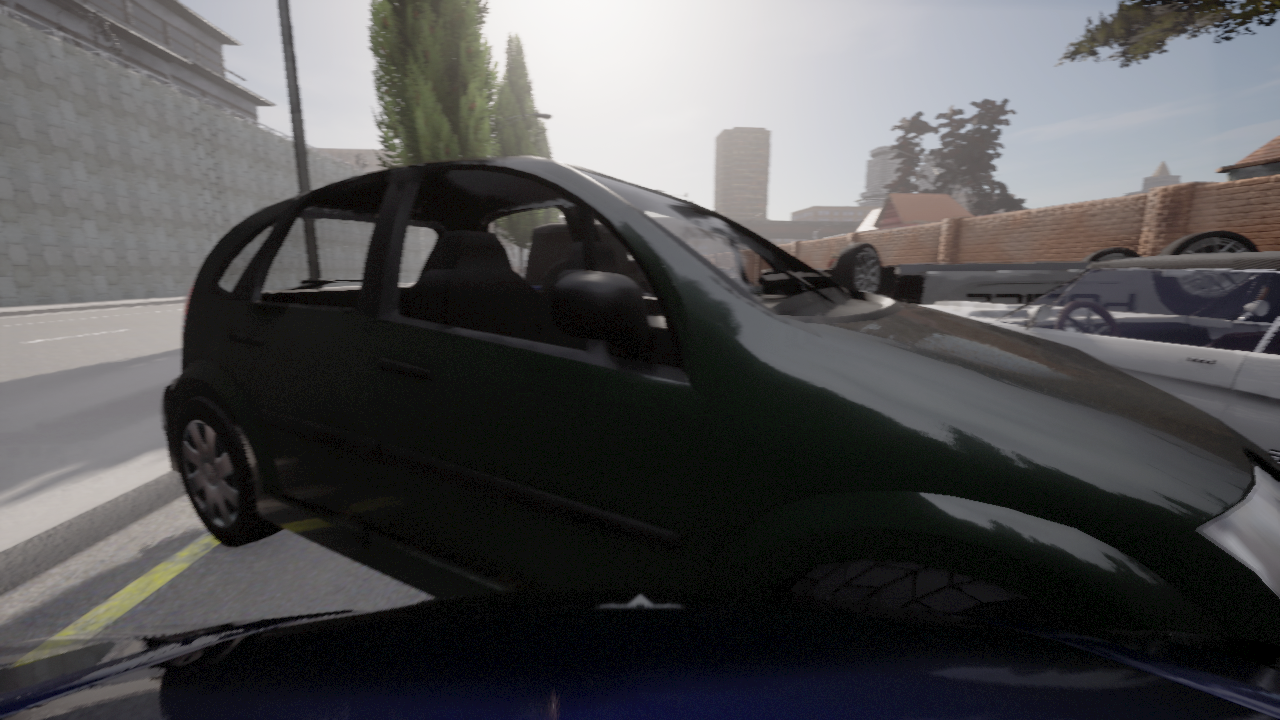cyclist: (160, 157, 1279, 644), (0, 588, 1279, 719), (921, 251, 1279, 462), (816, 230, 1259, 304)
pedestrian: (826, 252, 836, 269)
